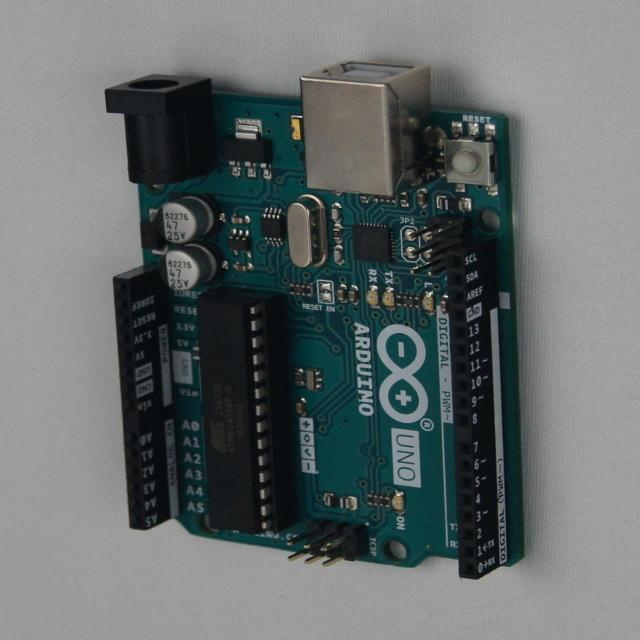Arduino Uno -Green-: (106, 62, 524, 579)
